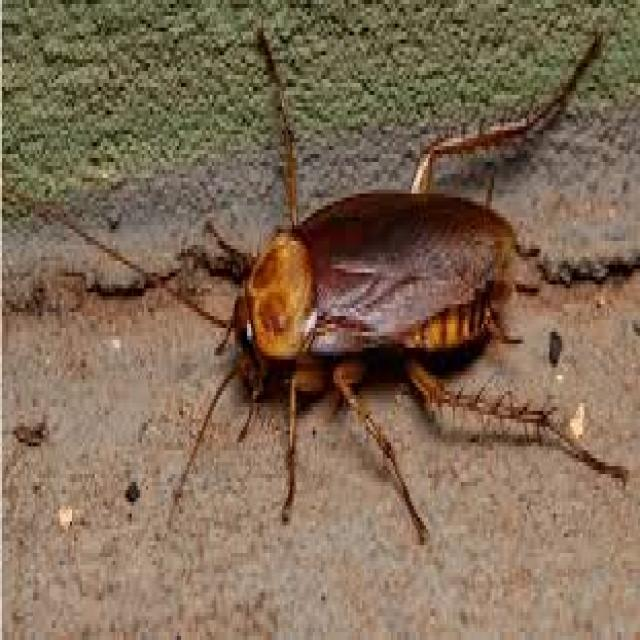Cockroach: (15, 22, 640, 573)
